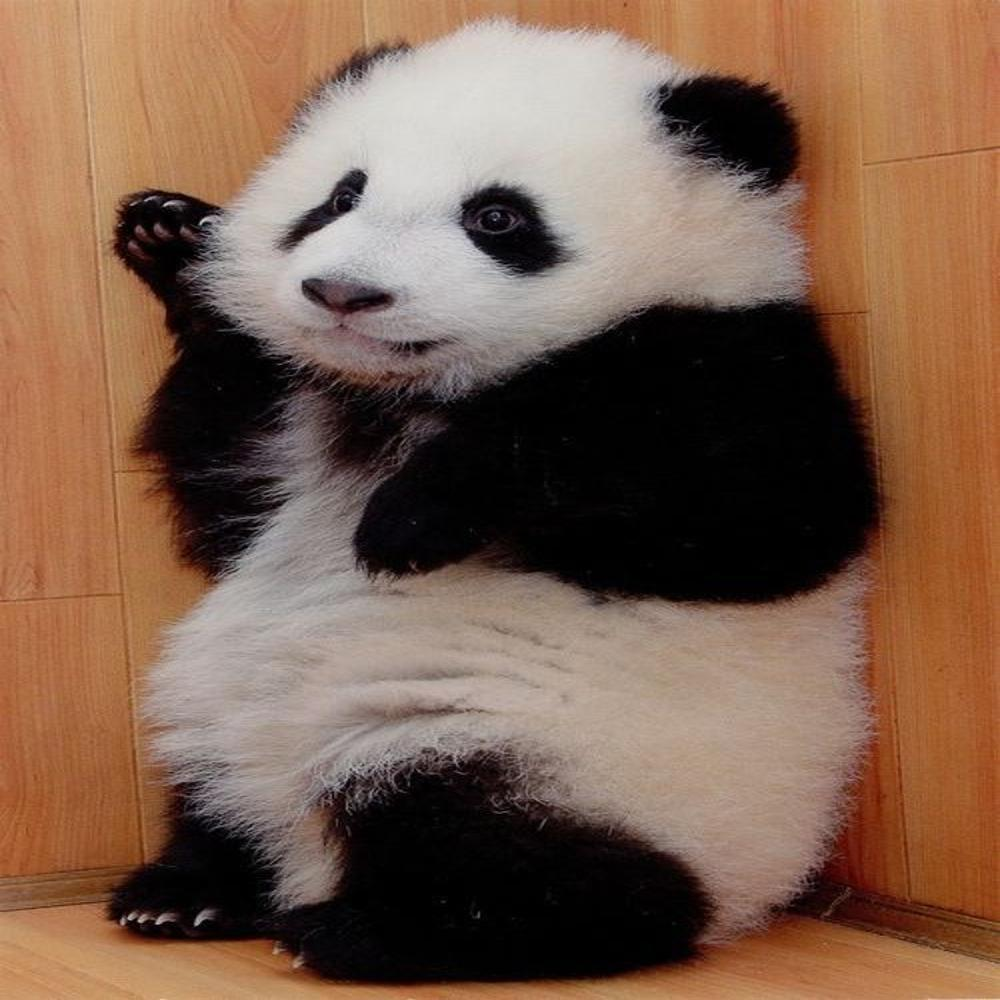panda: (120, 34, 898, 997)
